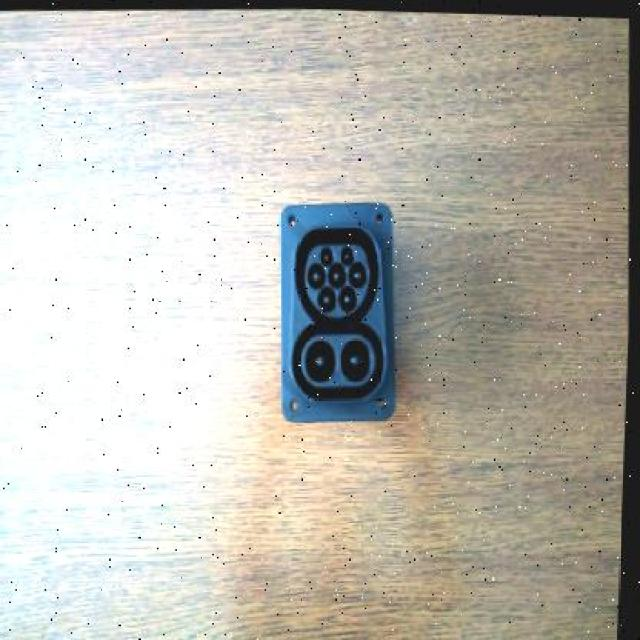CCS2: (272, 202, 399, 425)
